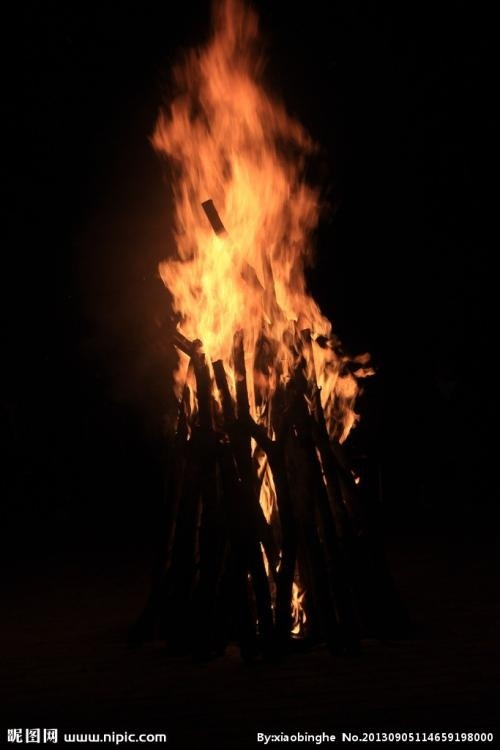fire: (144, 0, 376, 439), (246, 439, 308, 638)
